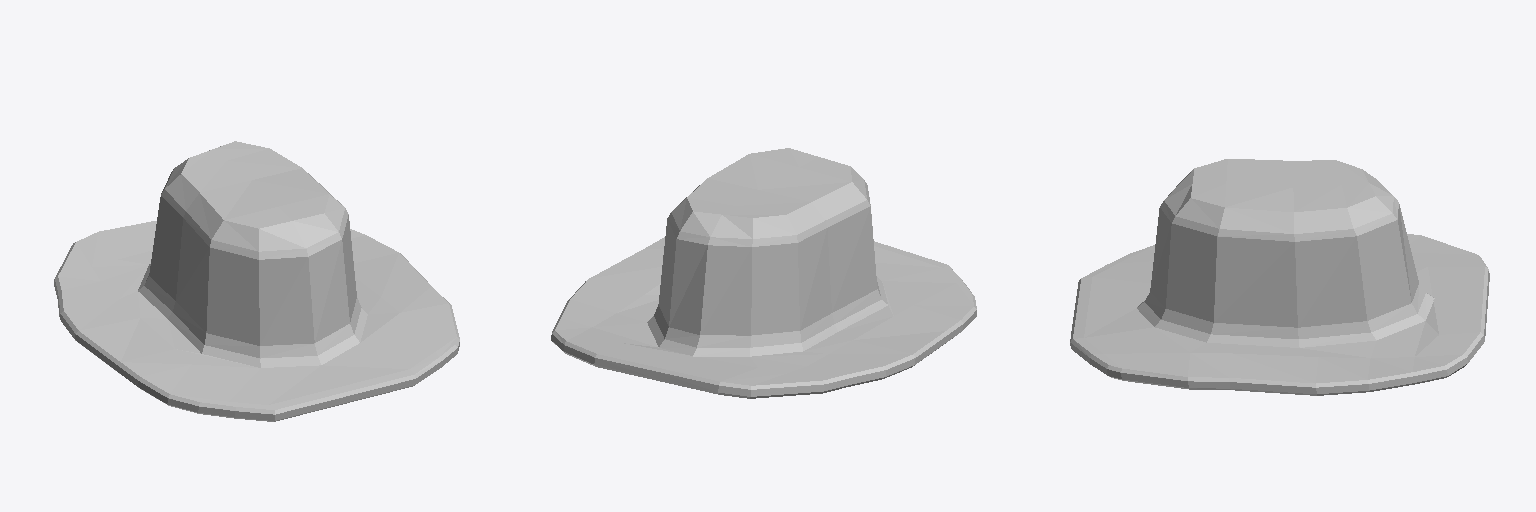
The model's file is hat.obj.
3 renders of one model, left to right at view 1: azimuth 30°, elevation 25°; view 2: azimuth 150°, elevation 25°; view 3: azimuth 270°, elevation 25°, orthographic.
Visible parts, largest first — view 1: pCube2; view 2: pCube2; view 3: pCube2.
Boxes of the visible parts, x1=… form: pCube2: x1=54, y1=141, x2=459, y2=421; pCube2: x1=551, y1=148, x2=976, y2=398; pCube2: x1=1070, y1=159, x2=1489, y2=395.
Bounding box in the file's own units: 0.9699 × 0.4198 × 1.08.